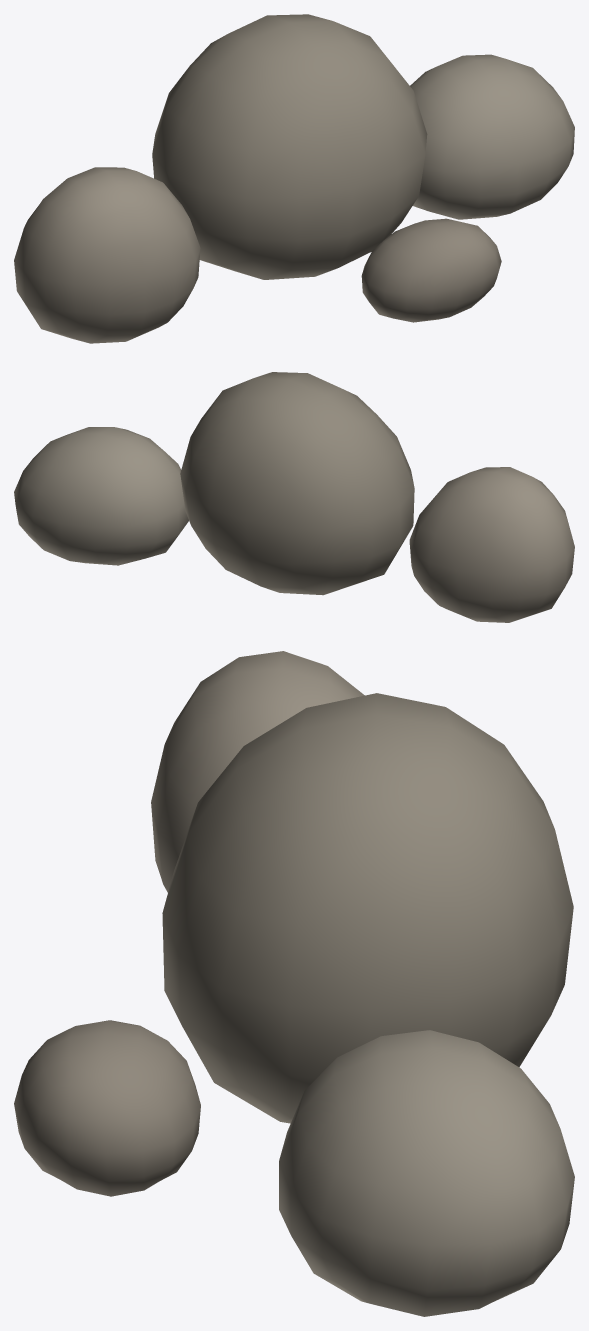
The model's file is outcrop.glb.
3 views of the same model, one above another, from view 1: azimuth 30°, elevation 25°; view 2: azimuth 150°, elevation 25°; view 3: azimuth 270°, elevation 25° (orthographic). The views are drawn at different scales.
Visible parts, largest first — view 1: body; view 2: body; view 3: body.
Part boxes in pixels (left/top/right/bottom): body: left=14, top=14, right=574, bottom=343; body: left=14, top=372, right=574, bottom=622; body: left=14, top=651, right=574, bottom=1316.
Size of the model in its own units: 5.21 by 2.1 by 2.58.
